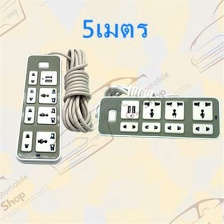three_eye_plug: (93, 93, 223, 142), (14, 51, 65, 165)
